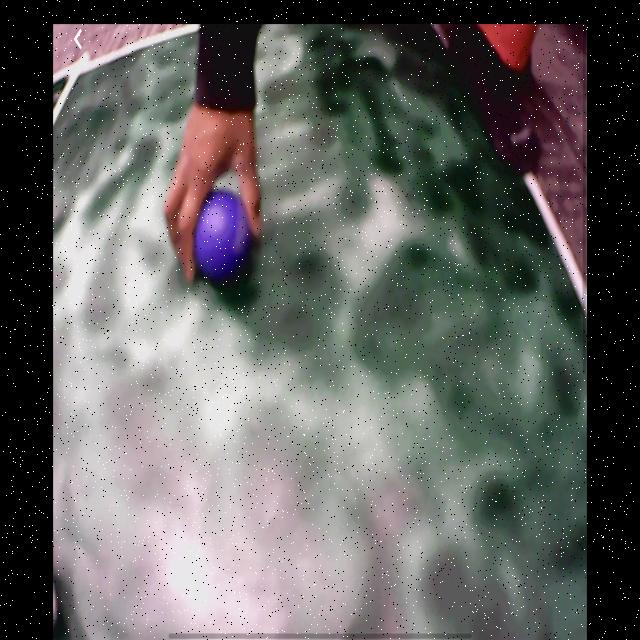ball: (188, 186, 250, 283)
